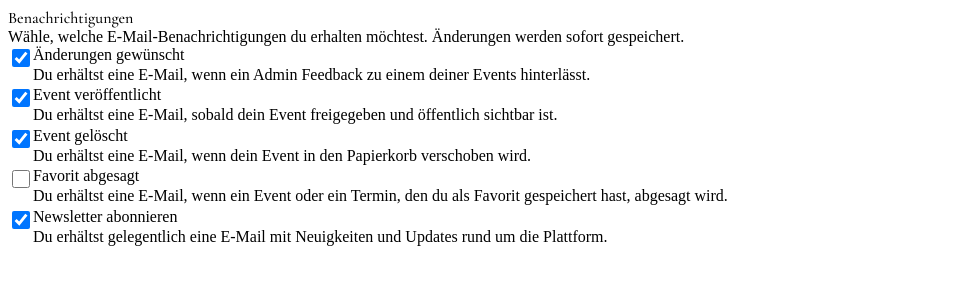
Test: NotificationPreferencesCard › shows an error message when save fails
Click the checkbox with test id "notification-pref-notifyOnPublished".
click(21, 98)  # box [12, 89, 30, 107]
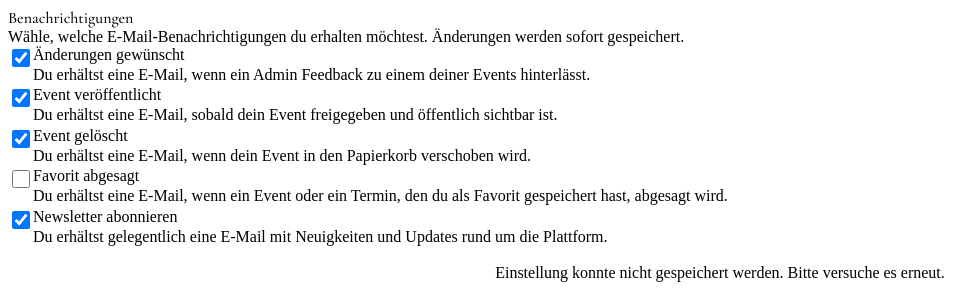
expect the text with test id "notification-pref-error" shows "Einstellung konnte nicht gespeichert werden": met, box [495, 264, 945, 281]
